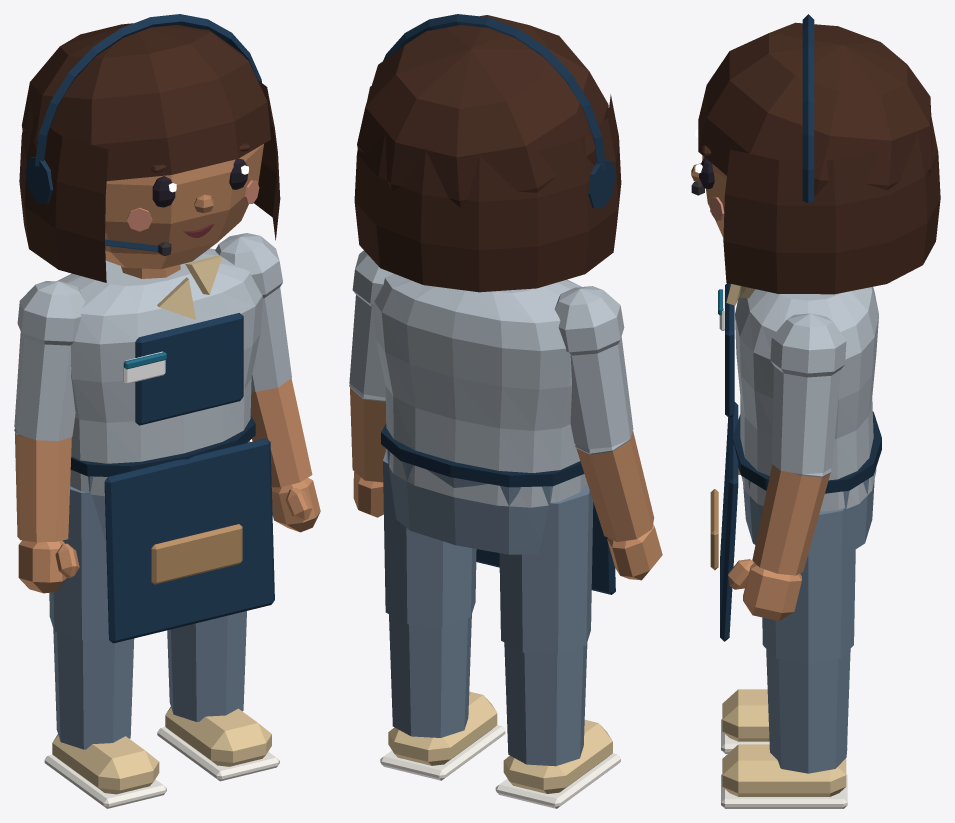
File: kas_rin.glb
The picture shows the model from 3 angles, left to right: view 1: azimuth 30°, elevation 25°; view 2: azimuth 150°, elevation 25°; view 3: azimuth 270°, elevation 25°; orthographic projection. The views are drawn at different scales.
Visible parts, largest first — view 1: schürze, haare, torso, arm_r, bein_r, kopf, arm_l, bein_l, schuh_r, schuh_l, kopfbedeckung, hand_r (+4 smaller); view 2: haare, torso, bein_r, bein_l, arm_r, becken, arm_l, schürze, schuh_l, schuh_r, kopfbedeckung, hand_r (+1 smaller); view 3: haare, bein_l, arm_l, torso, schürze, schuh_l, hand_l, schuh_r, kopfbedeckung, becken, gesicht, kopf.
Boxes of the visible parts, x1,y1,x2,y2 form: schürze: (70,313,274,643); haare: (19,23,280,282); torso: (57,248,262,496); arm_r: (14,281,85,542); bein_r: (49,486,134,749); kopf: (105,144,263,269); arm_l: (215,233,312,487); bein_l: (167,441,250,721); schuh_r: (44,734,166,808); schuh_l: (157,706,279,781); kopfbedeckung: (25,14,261,255); hand_r: (18,540,79,593); haare: (354,15,621,292); torso: (373,274,587,507); bein_r: (499,483,593,766); bein_l: (383,449,476,737); arm_r: (554,286,654,541); becken: (387,450,552,554); arm_l: (349,250,394,482); schürze: (381,423,615,594); schuh_l: (380,691,505,780); schuh_r: (495,720,620,808); kopfbedeckung: (383,14,616,208); hand_r: (607,524,662,580); haare: (698,22,940,294); bein_l: (762,507,855,773); arm_l: (752,313,846,575); torso: (735,287,878,511); schürze: (710,283,881,641); schuh_l: (721,744,847,808); hand_l: (728,559,801,620); schuh_r: (721,689,847,753); kopfbedeckung: (691,14,814,203); becken: (743,478,874,552); gesicht: (691,129,724,220); kopf: (702,155,726,237).
Size of the model in its own units: 0.0103 by 0.0251 by 0.00763.
